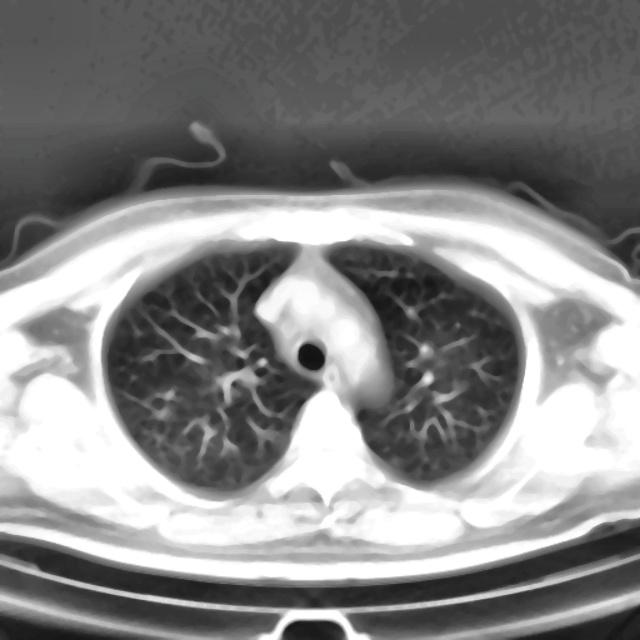covid: (0, 165, 639, 587)
